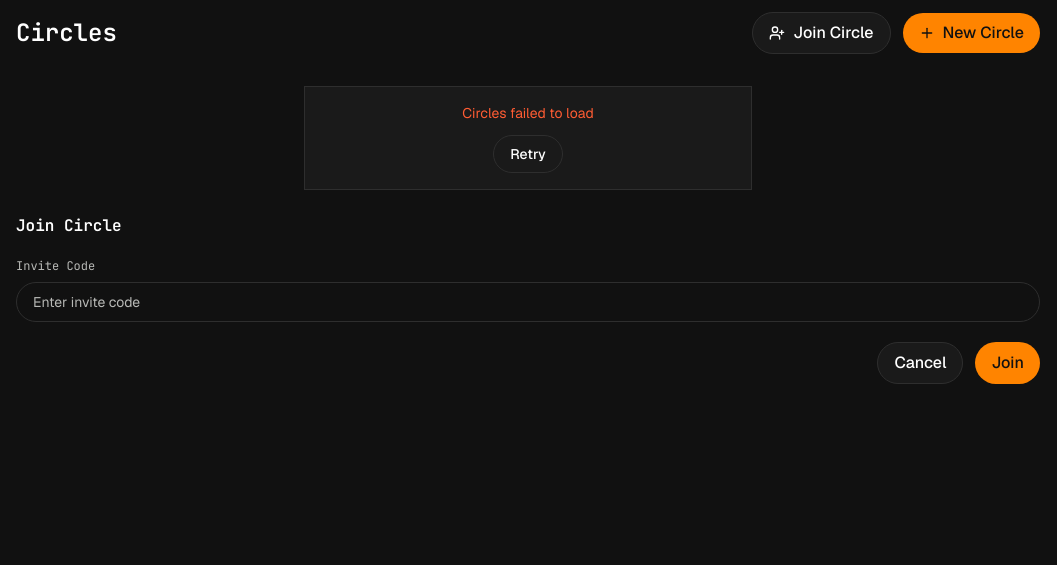
Test: CirclesView › shows a retryable error state instead of the empty state when loading fails
The image size is (1057, 565).
Expected: the text "No circles yet" is not shown
Click the button "Retry". click: (528, 154)
box: [493,135,563,173]
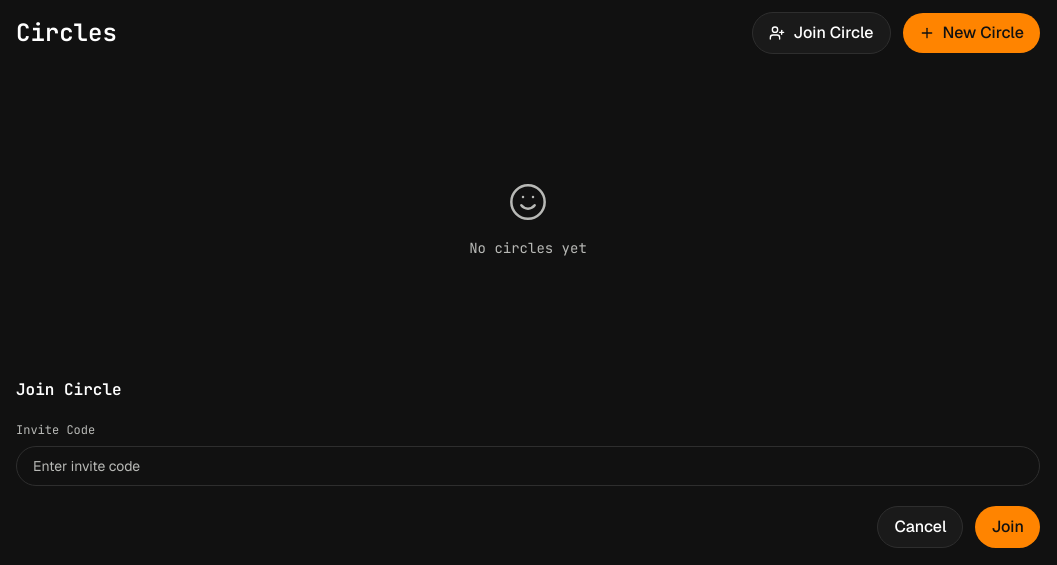
Now the text "Circles failed to load" is gone
Now the text "No circles yet" is shown, box [469,238,587,258]
